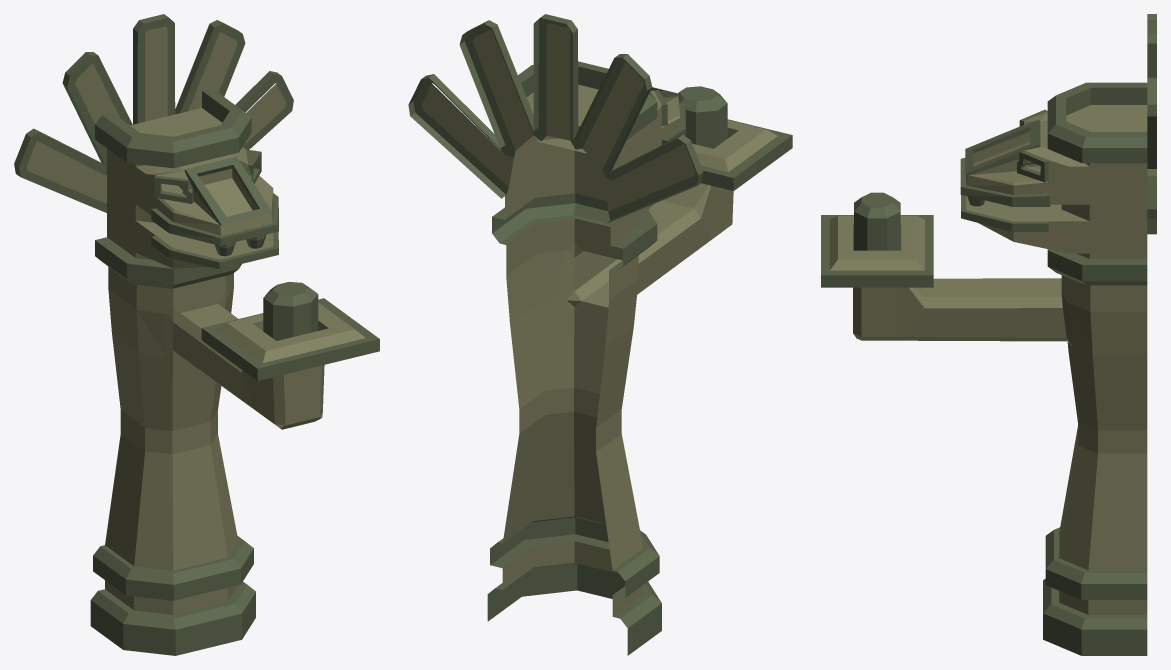
Rendered from lantern2_snake.fbx.
3 renders of one model, left to right at view 1: azimuth 30°, elevation 25°; view 2: azimuth 150°, elevation 25°; view 3: azimuth 270°, elevation 25°, orthographic. The views are drawn at different scales.
Parts seen in each view (by area): view 1: lantern2_body, lantern2_light; view 2: lantern2_body, lantern2_light; view 3: lantern2_body, lantern2_light.
Boxes of the visible parts, bbox=[...] form: lantern2_body: bbox=[14, 14, 379, 655]; lantern2_light: bbox=[263, 282, 318, 340]; lantern2_body: bbox=[408, 14, 792, 655]; lantern2_light: bbox=[678, 86, 727, 148]; lantern2_body: bbox=[821, 14, 1156, 655]; lantern2_light: bbox=[854, 192, 900, 250].
Size of the model in its own units: 1.62 by 3.32 by 1.7.
